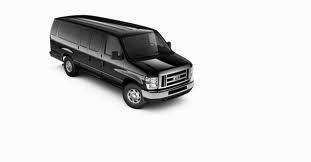car: (48, 10, 197, 112)
